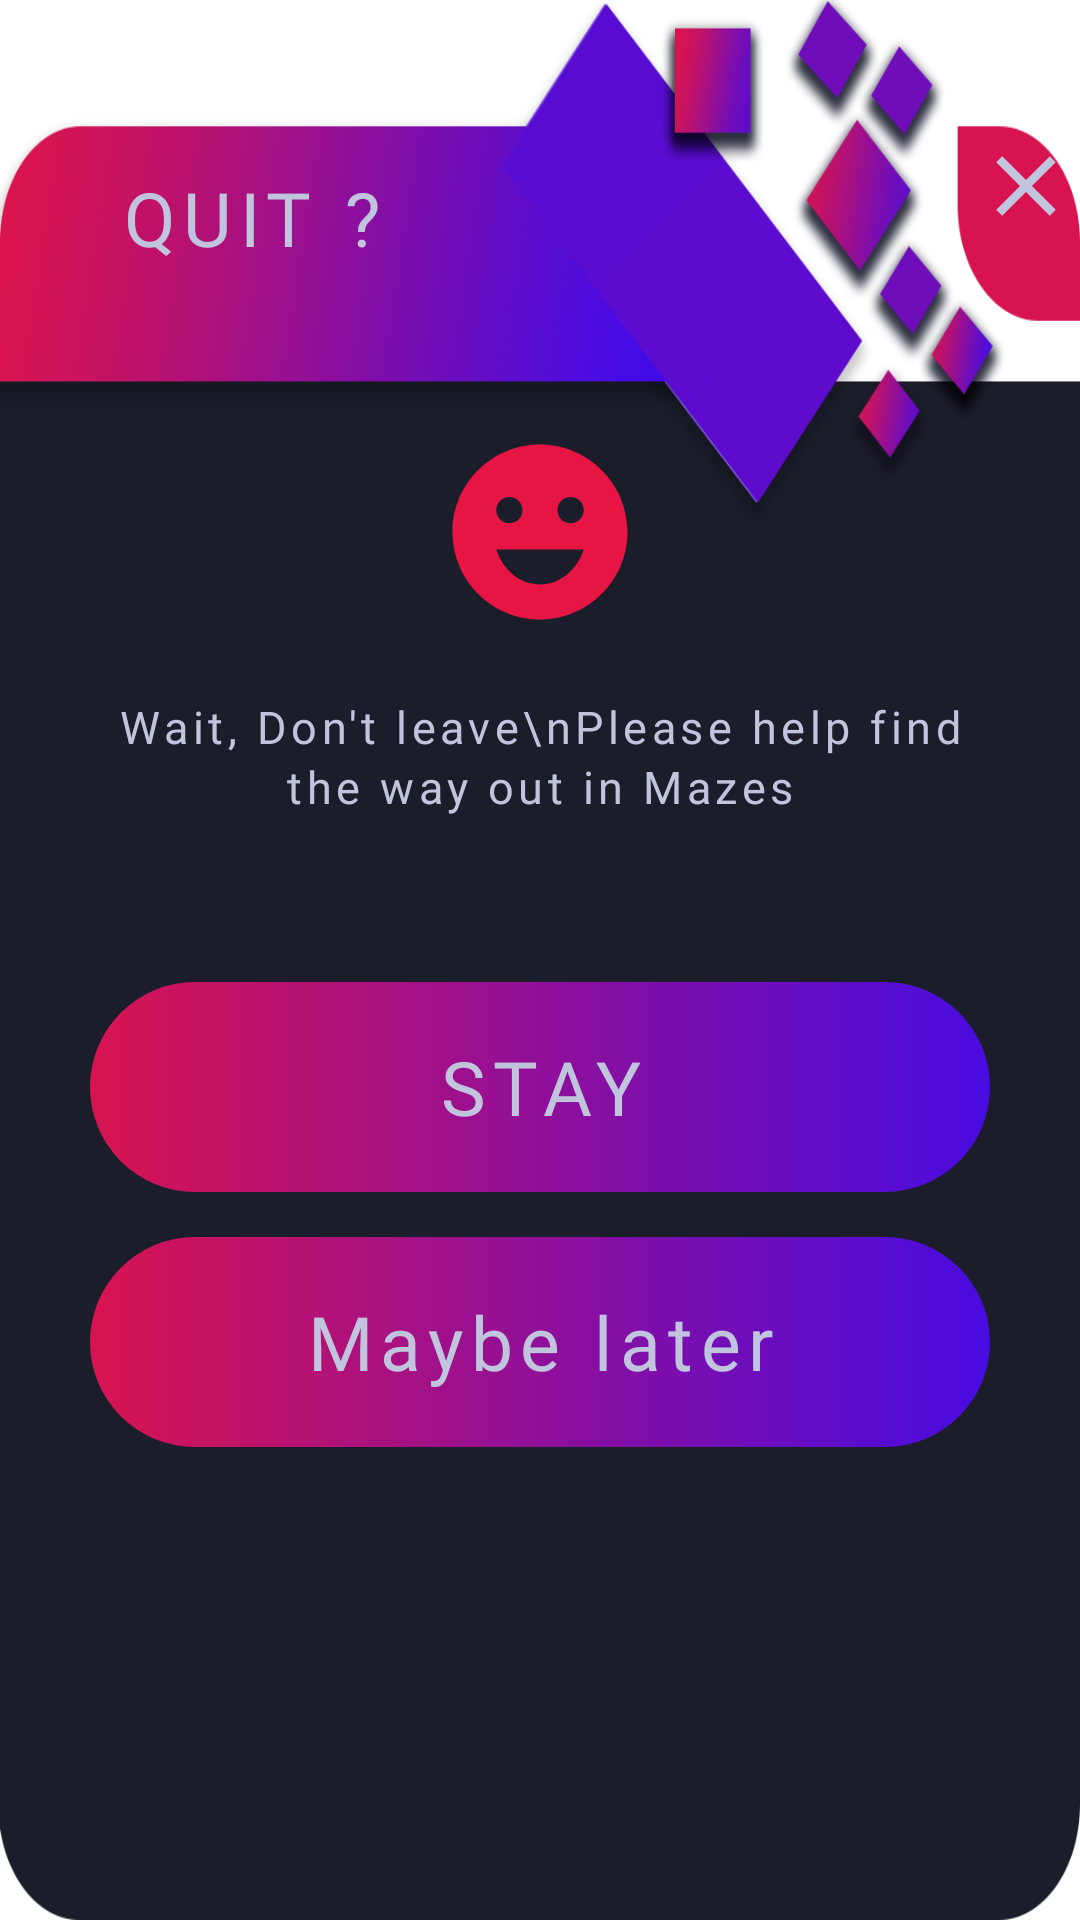

Point at icon controls on the screen. Image size 1080px×1920px, points as point (x, y).
close: point (1036, 175)
emoji: point (540, 532)
